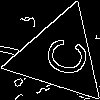C: (34, 31, 91, 80)
